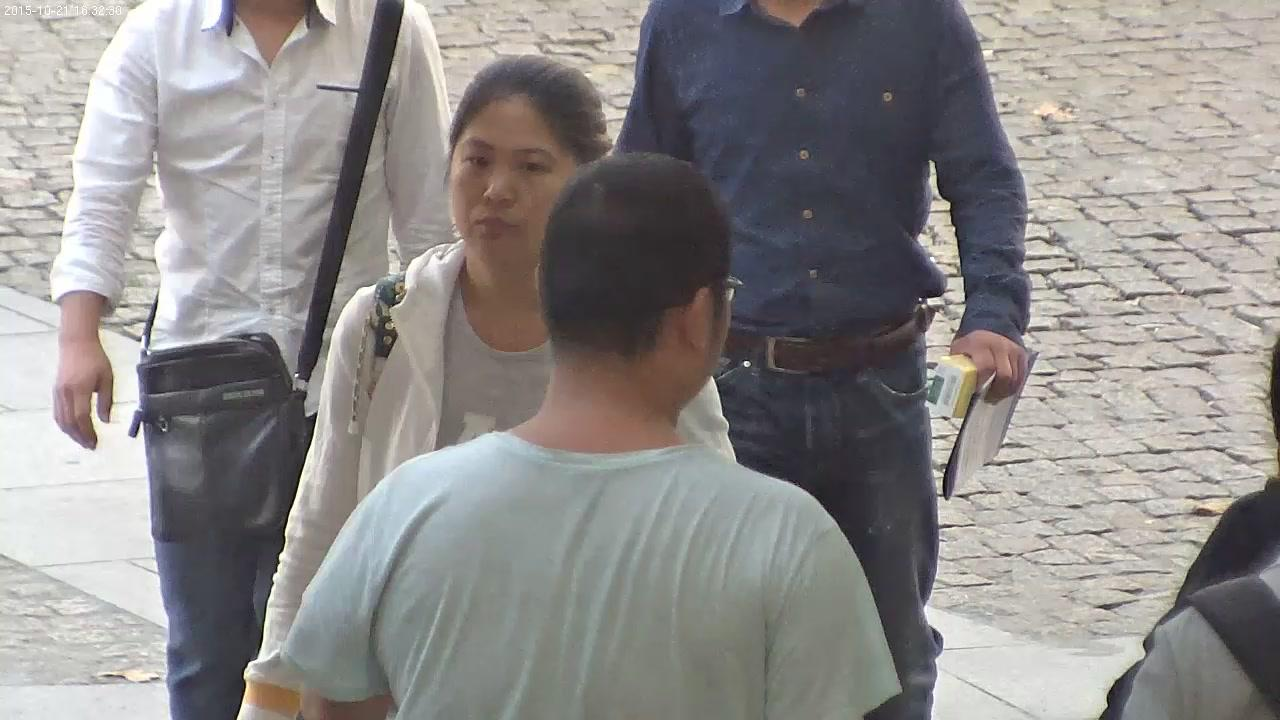person: (281, 151, 906, 720), (237, 55, 741, 720), (606, 0, 1038, 720), (48, 0, 467, 720)
